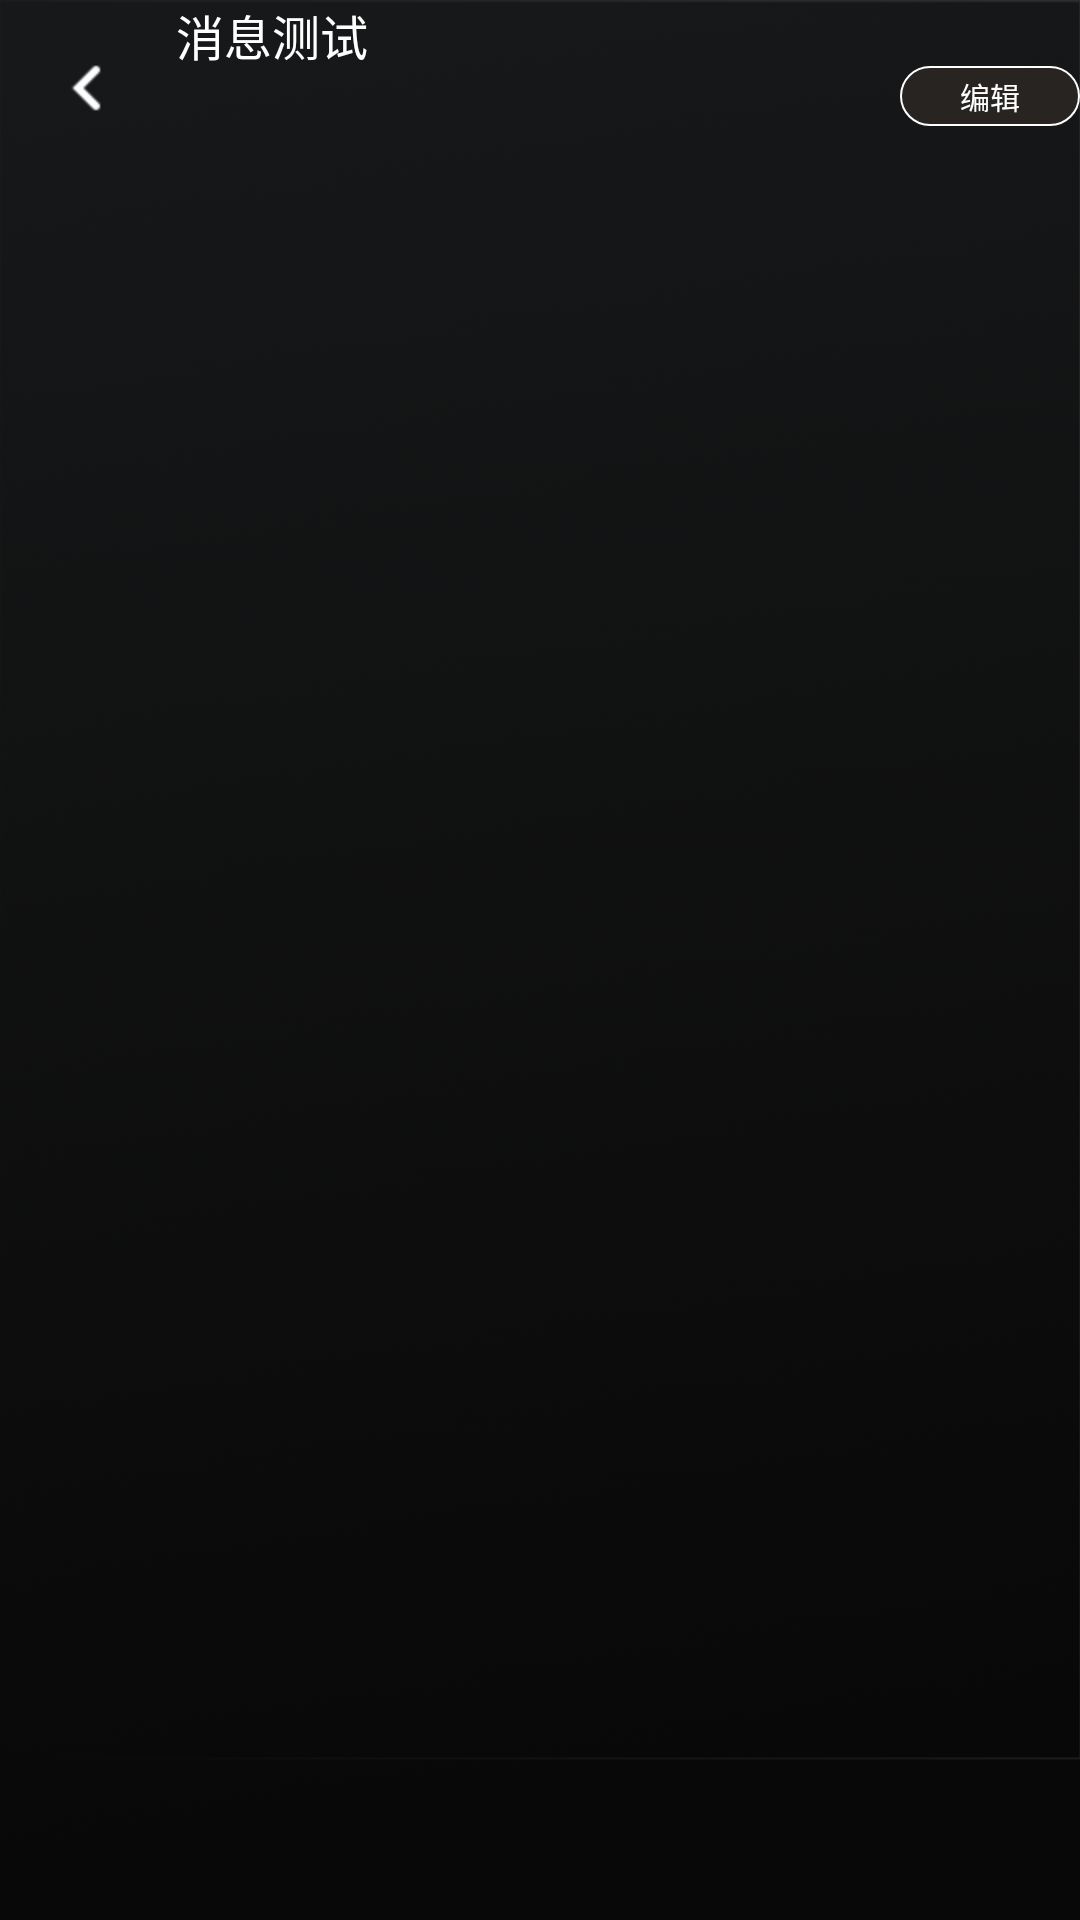

Icons on this 1080*1920 Android screen, each with its box as (x1, y1, x2, y2):
back: (72, 65, 101, 111)
